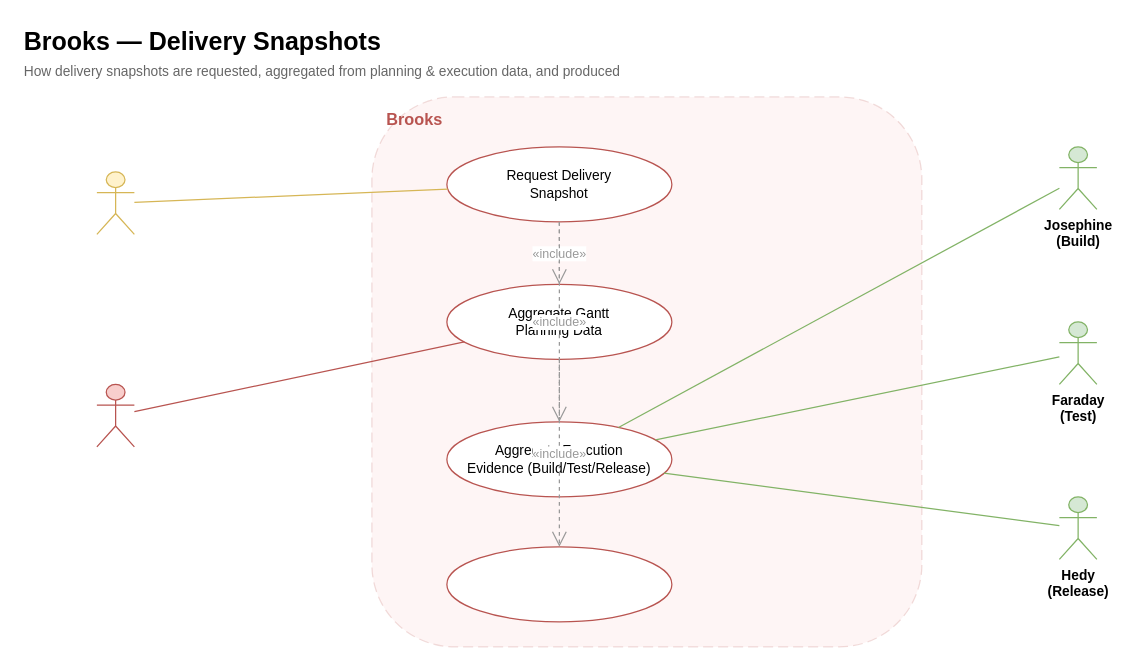
Image size: 1133x669. Some labels were removed from this diagram. The centre of each missing label's shape, as x and y in pixels:
Delivery Lead: point 115,202
Gantt: point 115,415
Produce DeliverySnapshot: point 559,584
